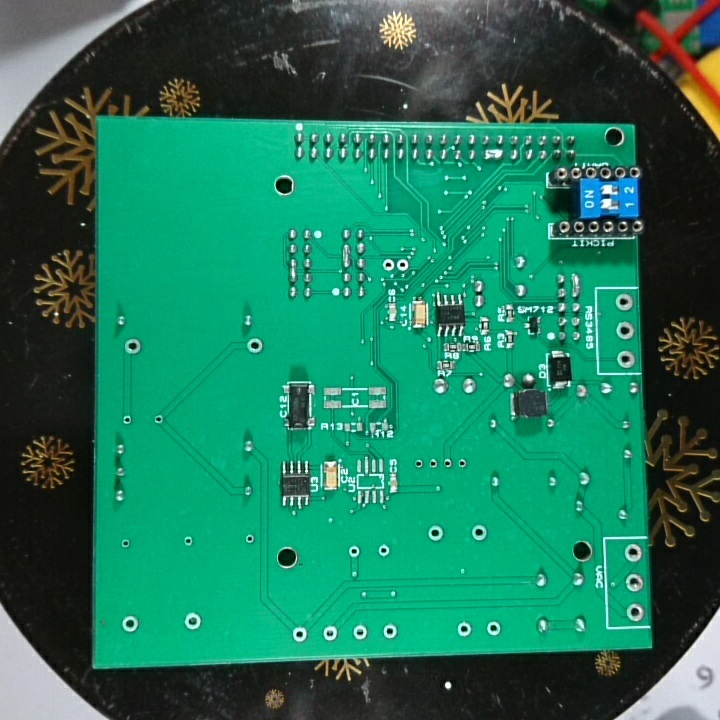F: (614, 348, 638, 371), (622, 571, 645, 595), (120, 612, 143, 636), (289, 622, 311, 647), (468, 521, 491, 544), (122, 336, 143, 360), (425, 520, 445, 545), (614, 320, 636, 342), (244, 335, 266, 357), (452, 620, 475, 641), (180, 610, 203, 631), (623, 543, 644, 565), (624, 601, 645, 623), (484, 617, 505, 639), (351, 621, 371, 644), (319, 622, 339, 645), (614, 292, 634, 313), (379, 621, 399, 641), (345, 543, 365, 560), (396, 255, 411, 276), (376, 541, 391, 560), (118, 413, 137, 428), (380, 257, 396, 274), (152, 412, 168, 429), (440, 455, 454, 474), (118, 535, 134, 551), (242, 532, 257, 549), (425, 455, 439, 473), (412, 455, 425, 474), (456, 455, 469, 473), (182, 532, 195, 549)
P: (338, 240, 354, 269), (569, 272, 585, 300), (481, 146, 505, 163), (286, 256, 299, 283)
